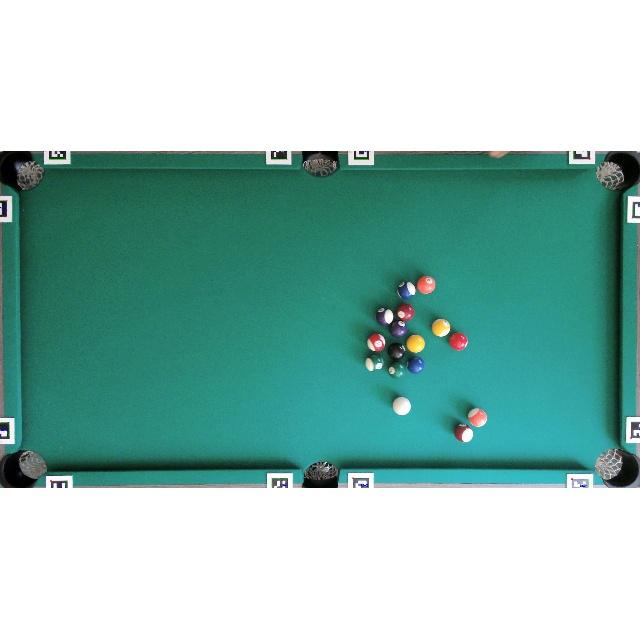cue ball: (393, 397, 411, 415)
other: (448, 332, 468, 351), (416, 275, 436, 294), (367, 333, 386, 352), (468, 408, 487, 427), (432, 318, 451, 337), (364, 354, 384, 372), (455, 423, 473, 442), (376, 307, 394, 326), (390, 320, 408, 338), (396, 304, 414, 322), (397, 281, 415, 299), (407, 334, 425, 352), (387, 343, 406, 360), (388, 362, 406, 379), (407, 356, 424, 373)
